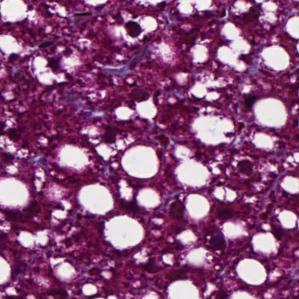steatosis: (102, 216, 147, 251), (121, 143, 160, 180), (250, 96, 289, 127), (78, 182, 114, 214), (235, 258, 269, 286), (183, 192, 212, 221)
